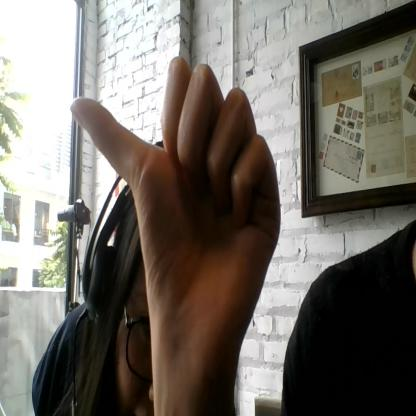right: (70, 56, 284, 352)
